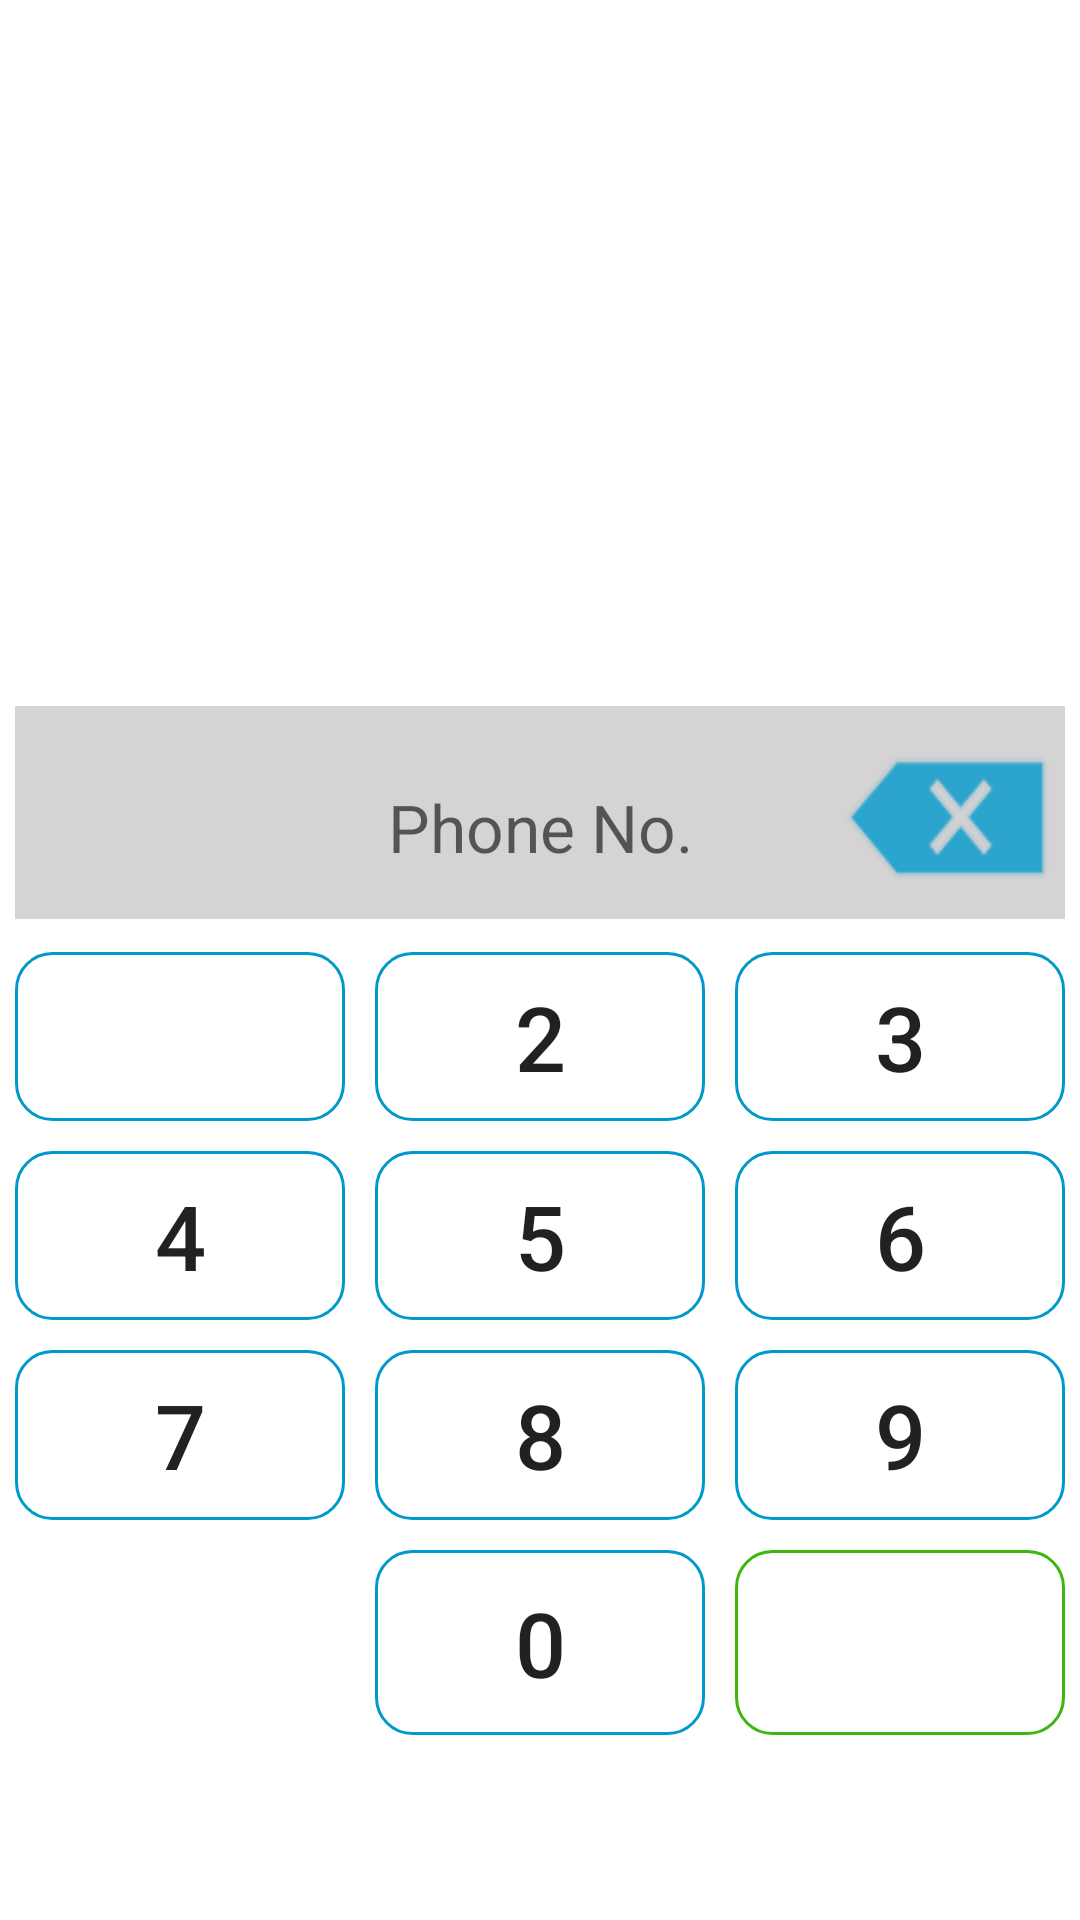

Point at icon controls on the screen. Image size 1080x1920, points as point (x, y).
delete: point (946, 804)
